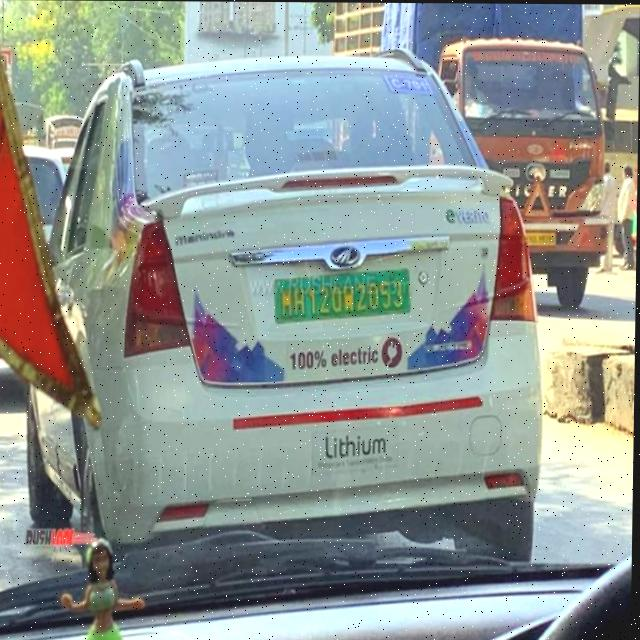plate: (272, 265, 413, 323), (523, 227, 562, 249)
